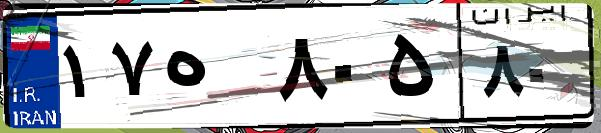0: (330, 28, 385, 110), (525, 38, 570, 115)
1: (57, 26, 110, 100)
5: (385, 28, 445, 110)
7: (110, 28, 158, 98)
8: (270, 28, 330, 110), (475, 38, 525, 113)
ه: (158, 20, 270, 120)
